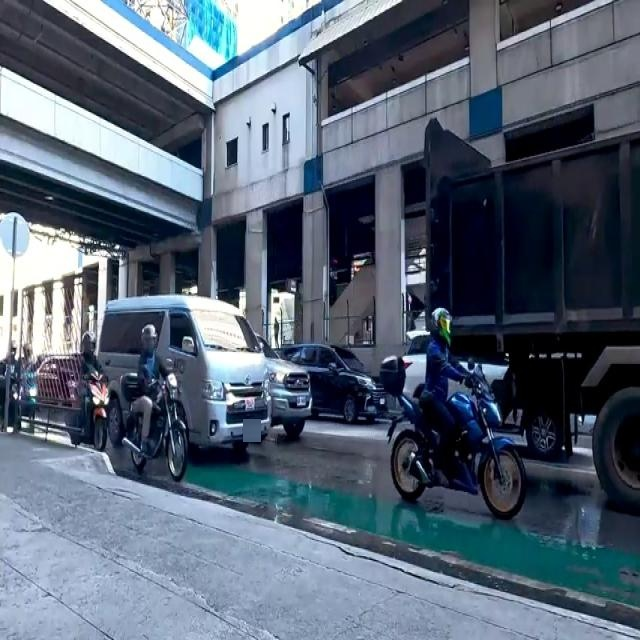car: (98, 298, 268, 452), (298, 342, 384, 420), (267, 348, 313, 433)
motorcycle: (398, 313, 523, 518), (132, 343, 185, 469), (72, 344, 110, 446), (2, 340, 22, 432), (20, 340, 40, 424)
truck: (433, 132, 640, 502)
